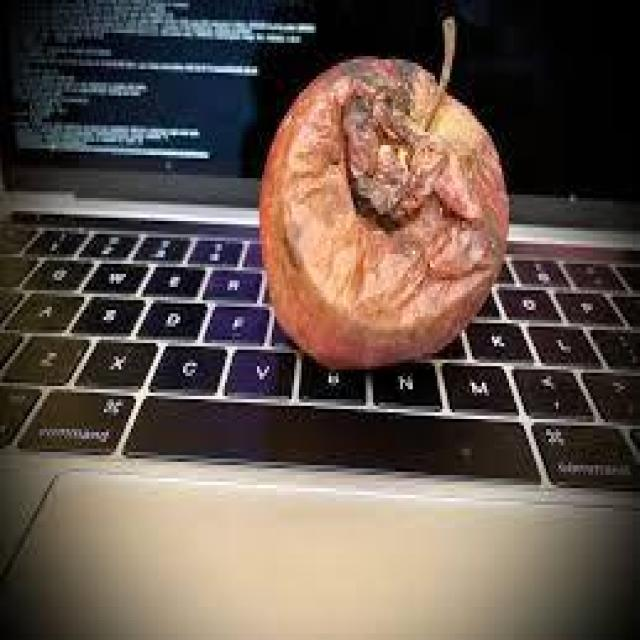maca: (257, 17, 509, 370)
